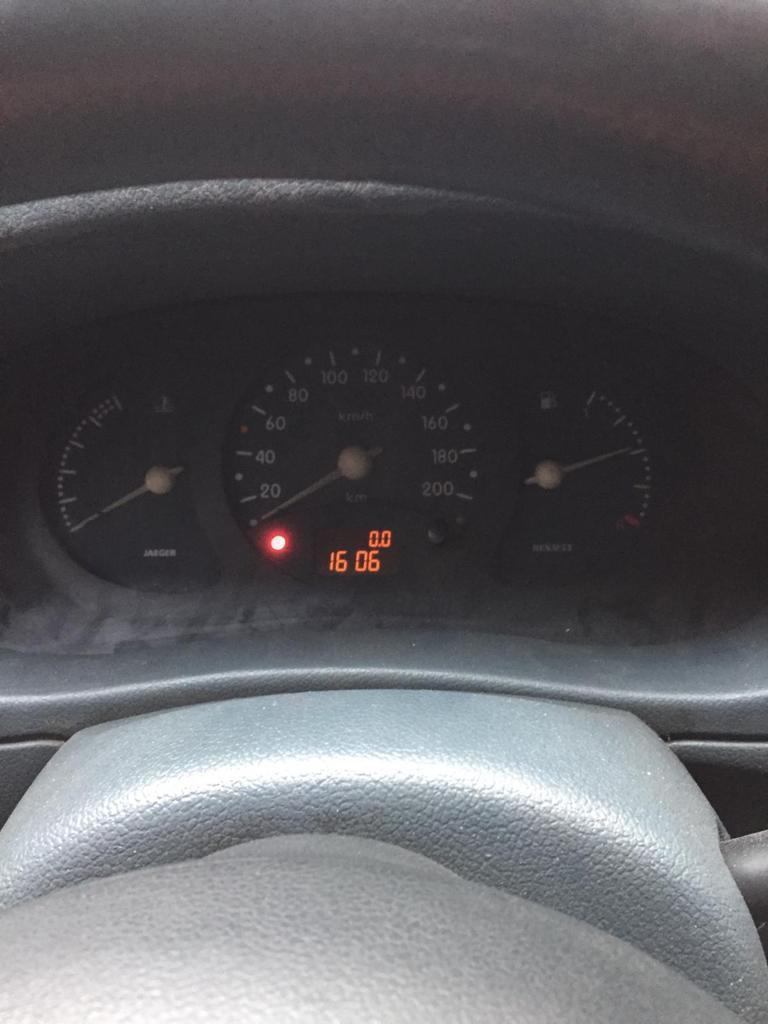,: (378, 543, 381, 547)
0: (354, 549, 367, 572), (380, 530, 391, 547), (367, 529, 378, 546)
1: (327, 550, 334, 571)
6: (334, 549, 348, 572), (368, 549, 381, 572)
odometer: (306, 524, 408, 582)
